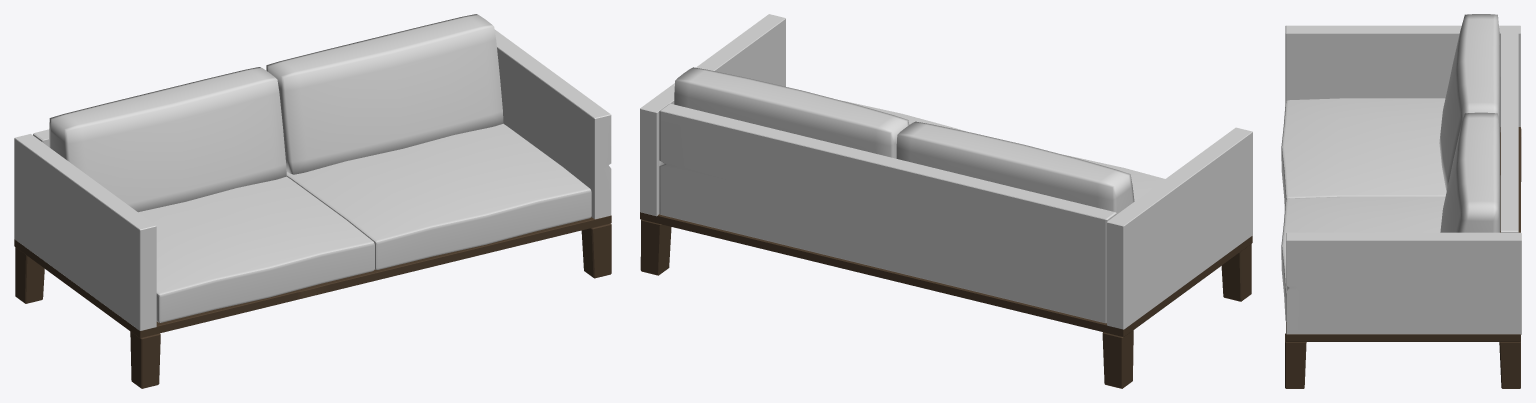
File: couch.gltf
The picture shows the model from 3 angles, left to right: view 1: azimuth 30°, elevation 25°; view 2: azimuth 150°, elevation 25°; view 3: azimuth 270°, elevation 25°; orthographic projection. The views are drawn at different scales.
Visible parts, largest first — view 1: Couch; view 2: Couch; view 3: Couch.
Boxes of the visible parts, <box> form: Couch: <box>14,14,611,388</box>; Couch: <box>640,14,1252,388</box>; Couch: <box>1281,14,1521,388</box>.
Size of the model in its own units: 3.13 by 1.17 by 1.48.
